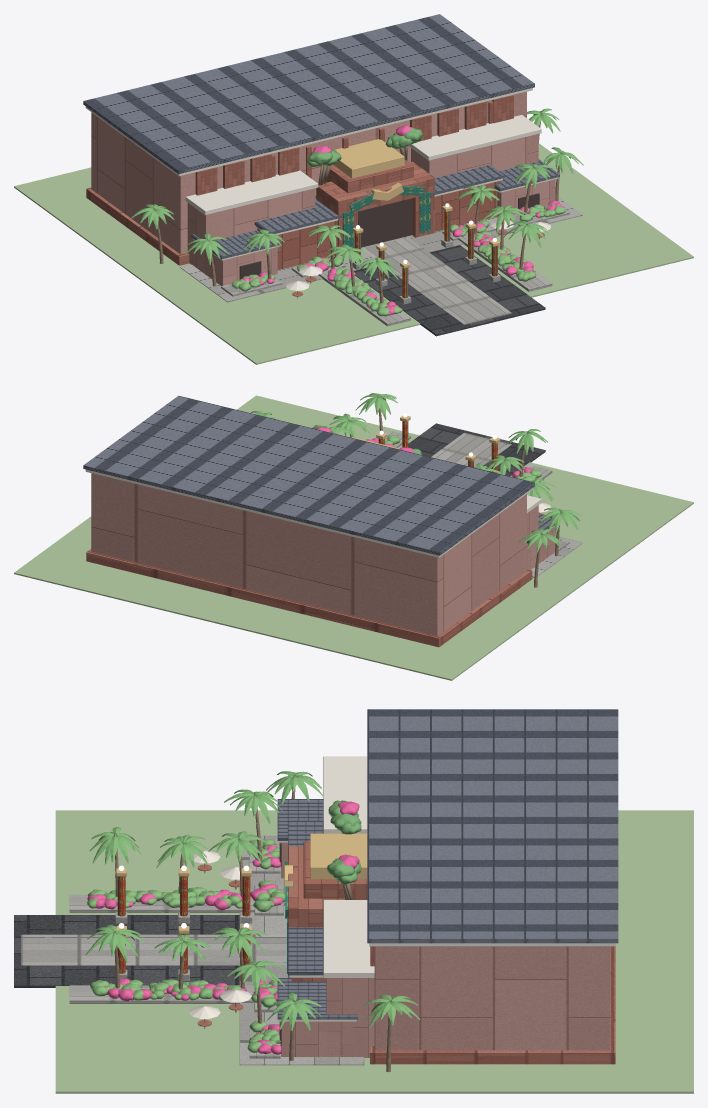
The model's file is hero_goddess_arch_base.glb.
3 renders of one model, top to bottom at view 1: azimuth 30°, elevation 25°; view 2: azimuth 150°, elevation 25°; view 3: azimuth 270°, elevation 25°, orthographic. The views are drawn at different scales.
Parts seen in each view (by area): view 1: MainHallTileTrim, PlazaBase, MainHallBody, VolcanicBoulevard, BoulevardCarpet, UpperEleDeck_-1, UpperEleDeck_1, UpperEleCornice_-1, UpperEleCornice_1, ForecourtApron, PortalTunnelVoid, PortalLintel (+17 smaller); view 2: MainHallTileTrim, MainHallBody, PlazaBase, MainHallPlinth, VolcanicBoulevard, BoulevardCarpet, MainHallCornice, OuterPavilion_-1, PalmFronds_308, ForecourtApron, PalmFronds_305, PalmFronds_304; view 3: PlazaBase, MainHallTileTrim, MainHallBody, VolcanicBoulevard, BoulevardCarpet, MainHallPlinth, ForecourtApron, UpperEleCornice_1, UpperEleDeck_1, UpperEleCornice_-1, OuterPavilion_1, GoddessPedestal2 (+20 smaller).
Part boxes in pixels (x1,y1,x2,y2): MainHallTileTrim: (83, 14, 534, 174); PlazaBase: (14, 143, 693, 364); MainHallBody: (91, 91, 526, 254); VolcanicBoulevard: (354, 245, 545, 336); BoulevardCarpet: (361, 237, 511, 324); UpperEleDeck_-1: (187, 188, 315, 274); UpperEleDeck_1: (411, 134, 538, 177); UpperEleCornice_-1: (185, 170, 318, 215); UpperEleCornice_1: (409, 115, 541, 160); ForecourtApron: (180, 197, 582, 302); PortalTunnelVoid: (358, 198, 412, 247); PortalLintel: (316, 161, 434, 215); MainHallTileTrim: (83, 395, 534, 555); MainHallBody: (91, 473, 526, 635); PlazaBase: (14, 395, 693, 680); MainHallPlinth: (86, 549, 532, 647); VolcanicBoulevard: (408, 423, 545, 476); BoulevardCarpet: (431, 432, 511, 467); MainHallCornice: (85, 469, 532, 557); OuterPavilion_-1: (528, 526, 555, 569); PalmFronds_308: (540, 507, 581, 533); ForecourtApron: (531, 537, 582, 577); PalmFronds_305: (355, 393, 397, 419); PalmFronds_304: (505, 429, 547, 454); PlazaBase: (55, 810, 693, 1093); MainHallTileTrim: (367, 709, 618, 943); MainHallBody: (374, 946, 610, 1050); VolcanicBoulevard: (14, 915, 239, 987); BoulevardCarpet: (21, 934, 286, 965); MainHallPlinth: (370, 946, 615, 1064); ForecourtApron: (239, 835, 364, 1065); UpperEleCornice_1: (323, 900, 374, 977); UpperEleDeck_1: (326, 978, 374, 1057); UpperEleCornice_-1: (323, 756, 367, 833); OuterPavilion_1: (281, 1021, 353, 1056); GoddessPedestal2: (310, 833, 367, 879).
Bounding box in the file's own units: 96 × 20.48 × 98.
24 materials, 9 textured.
